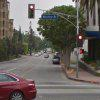Traffic light: (20, 0, 42, 32)
